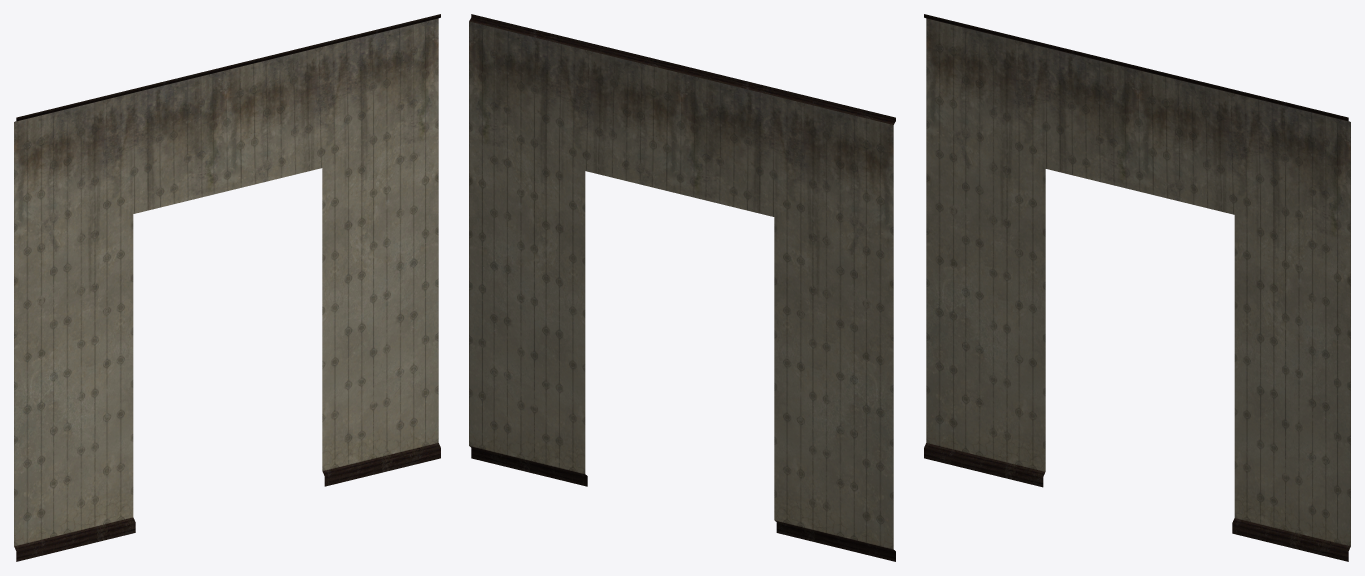
The model's file is hallway_damaged_doorway_narrow.dae.
The picture shows the model from 3 angles, left to right: view 1: azimuth 30°, elevation 25°; view 2: azimuth 150°, elevation 25°; view 3: azimuth 330°, elevation 25°; orthographic projection.
Visible parts, largest first — view 1: pPlane7; view 2: pPlane7; view 3: pPlane7.
Part boxes in pixels (<box>): pPlane7: <box>14,14,440,561</box>; pPlane7: <box>469,14,895,561</box>; pPlane7: <box>924,14,1350,561</box>.
Size of the model in its own units: 4 by 4 by 0.0341.
